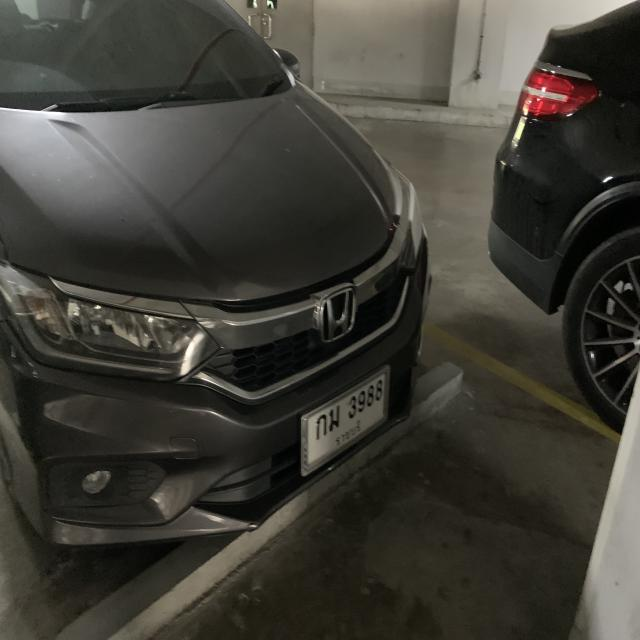license_plate: (298, 362, 396, 480)
